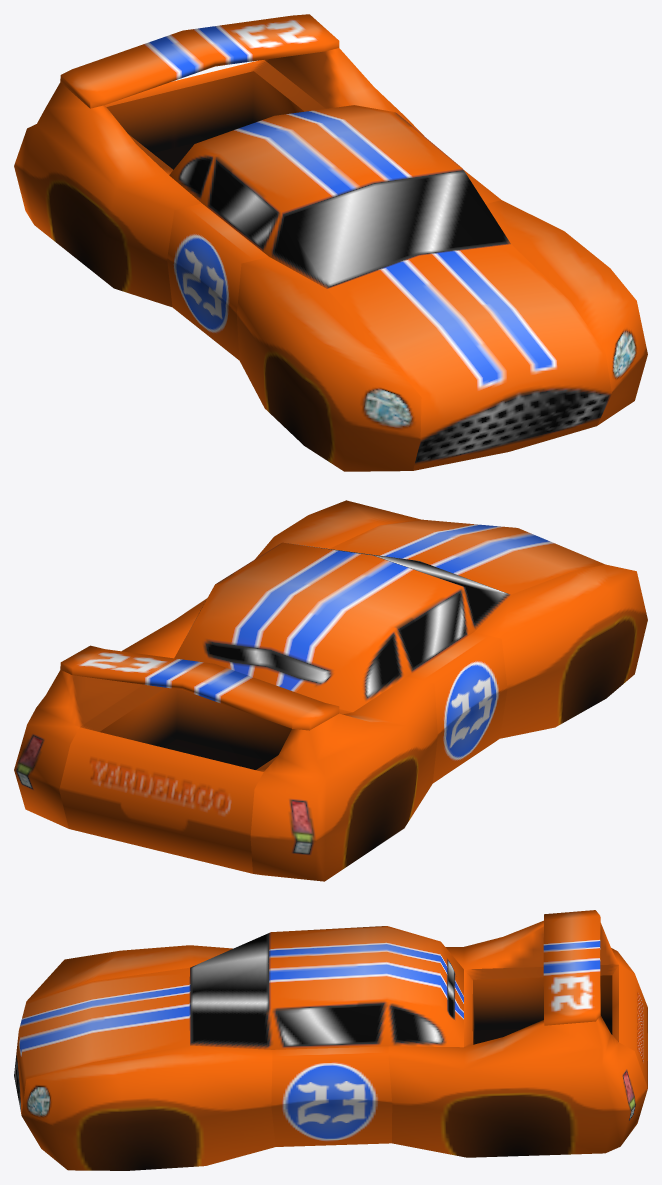
File: car.fbx
3 views of the same model, one above another, from view 1: azimuth 30°, elevation 25°; view 2: azimuth 150°, elevation 25°; view 3: azimuth 270°, elevation 25° (orthographic). The views are drawn at different scales.
Parts seen in each view (by area): view 1: Bonnet1; view 2: Bonnet1; view 3: Bonnet1.
Boxes of the visible parts, <box> form: Bonnet1: <box>14,14,647,471</box>; Bonnet1: <box>14,500,647,881</box>; Bonnet1: <box>14,910,647,1170</box>.
Size of the model in its own units: 1.95 by 1.08 by 3.93.
1 material, 1 textured.
